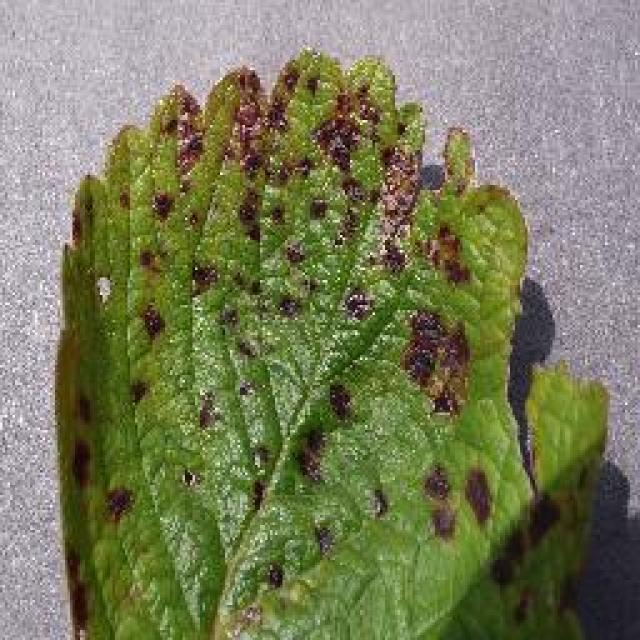Strawberry leaf scorch: (53, 55, 527, 520)
